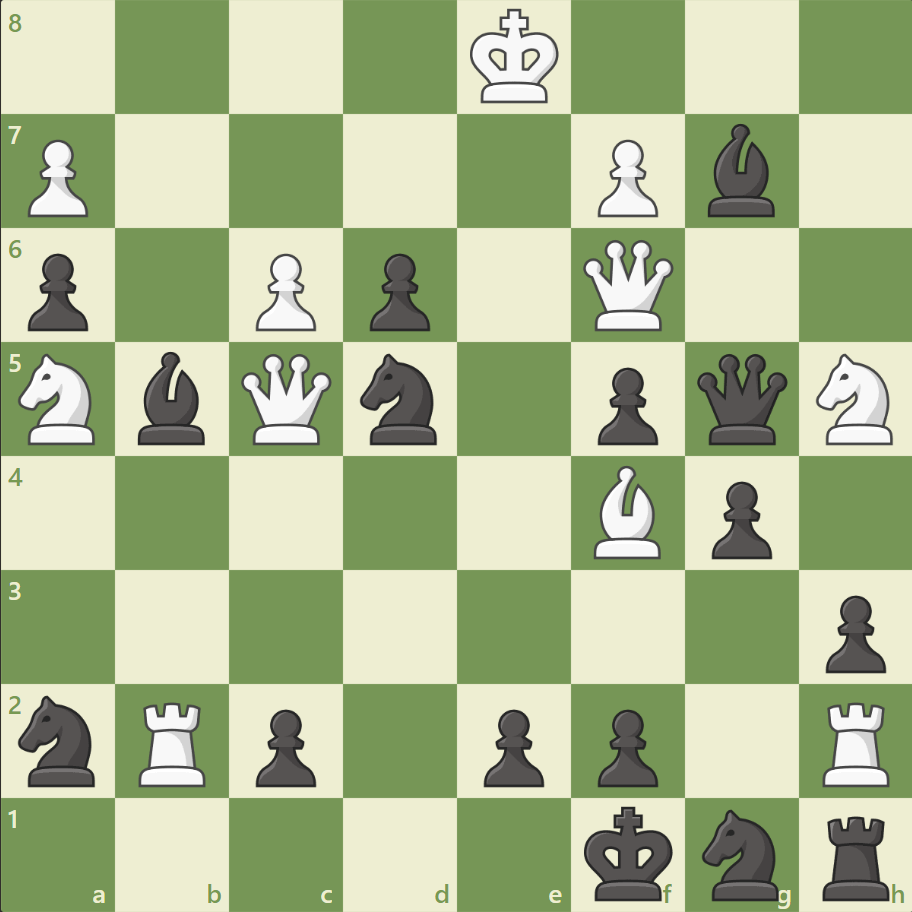B: (585, 460, 669, 563)
K: (465, 4, 565, 112)
N: (11, 348, 108, 450), (806, 348, 903, 450)
P: (20, 132, 95, 223), (247, 246, 322, 337), (588, 132, 662, 223)
Q: (237, 349, 336, 449), (578, 236, 677, 335)
R: (814, 693, 897, 790), (133, 693, 215, 790)
b: (698, 120, 782, 222), (131, 347, 215, 449)
k: (579, 798, 679, 906)
n: (351, 348, 449, 450), (11, 688, 108, 791), (692, 802, 789, 904)
p: (20, 246, 95, 337), (701, 473, 776, 564), (247, 700, 322, 791), (474, 700, 549, 791), (361, 246, 435, 337), (588, 359, 662, 450), (815, 586, 889, 677), (588, 700, 662, 791)
q: (691, 349, 790, 449)
r: (814, 806, 897, 904)
